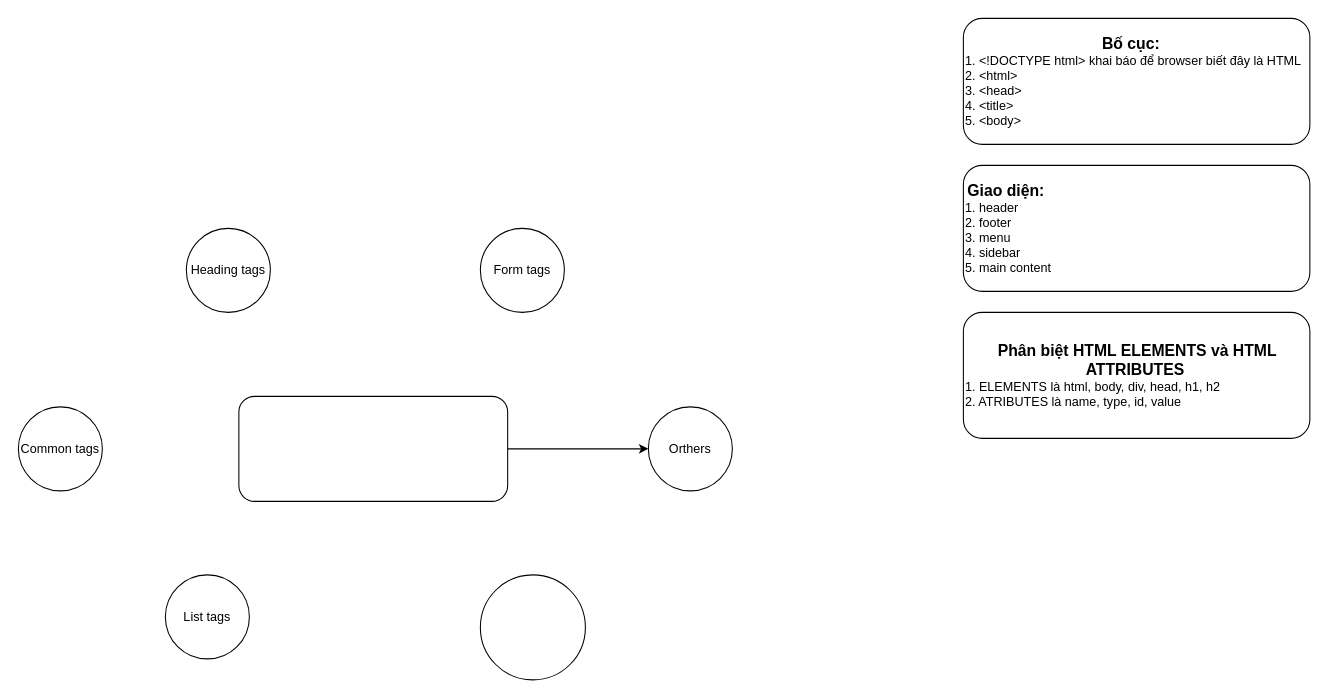
This 1328x698 diagram has some shape labels left out. The shapes that lost their labels are listed below. From the top down, each one's centre as x and y in pixels, then its label:
point 373,448: HTML ( HyperText Markup Language Ngôn ngữ đánh dấu văn bản)
point 532,627: Pagragraph tags
